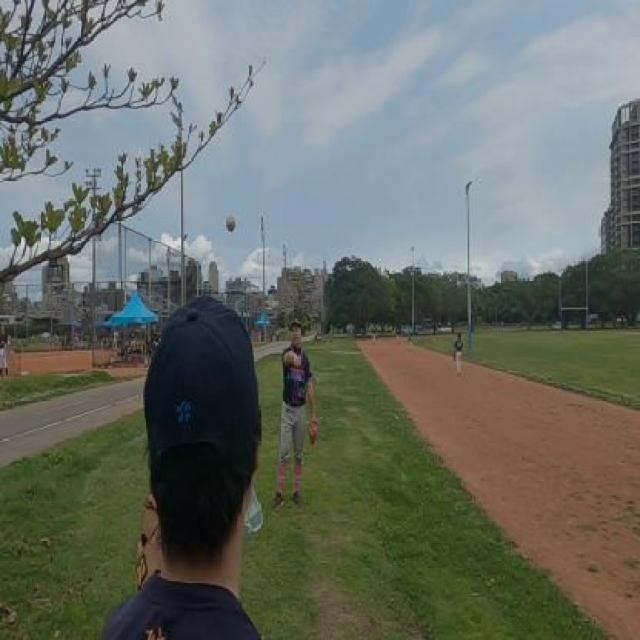baseball: (227, 214, 236, 232)
